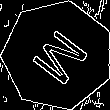M_SE: (23, 22, 93, 89)
